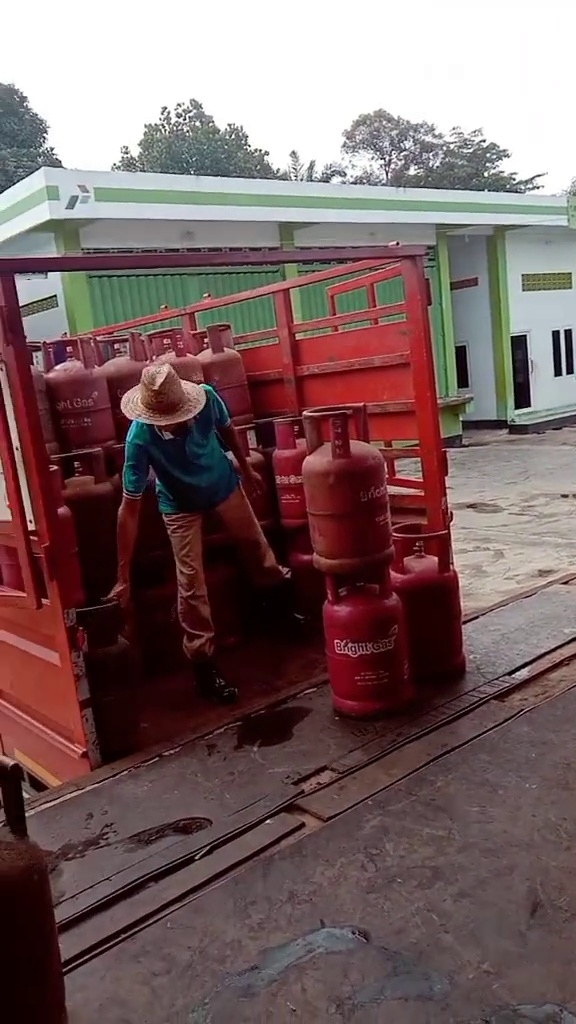bright_gas: (301, 404, 393, 573), (321, 570, 415, 724), (395, 524, 465, 694), (28, 338, 111, 466), (189, 320, 256, 429), (68, 473, 126, 579), (270, 417, 320, 530)
